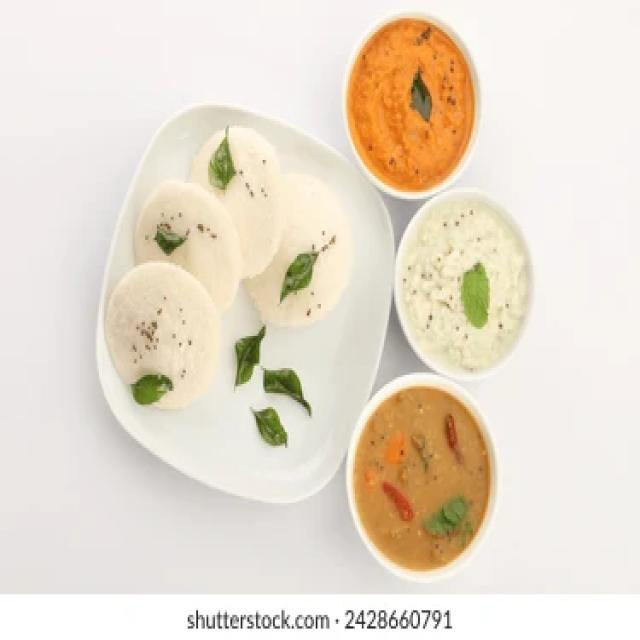IDLI: (102, 261, 215, 405), (190, 122, 289, 275), (248, 206, 343, 326), (131, 191, 224, 296)
